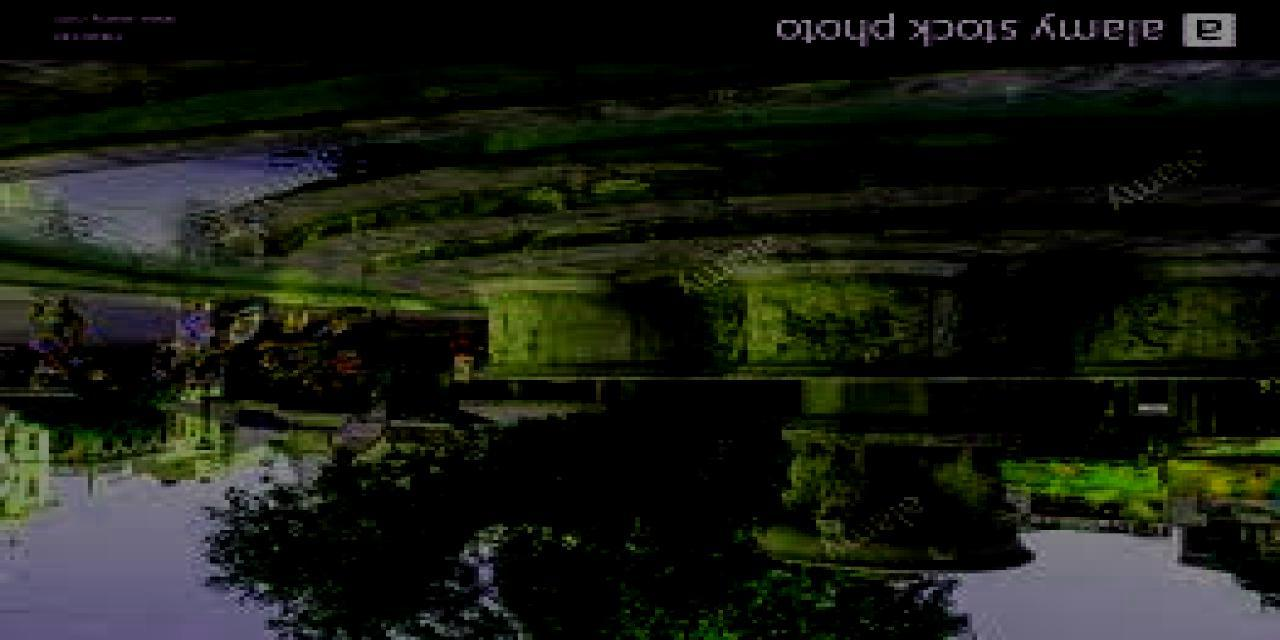Liontaria: (481, 246, 1270, 594)
